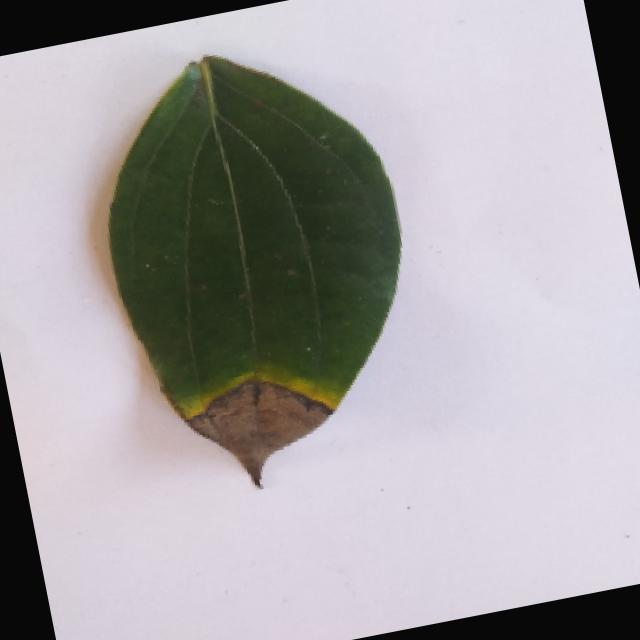footrot: (58, 14, 459, 507)
